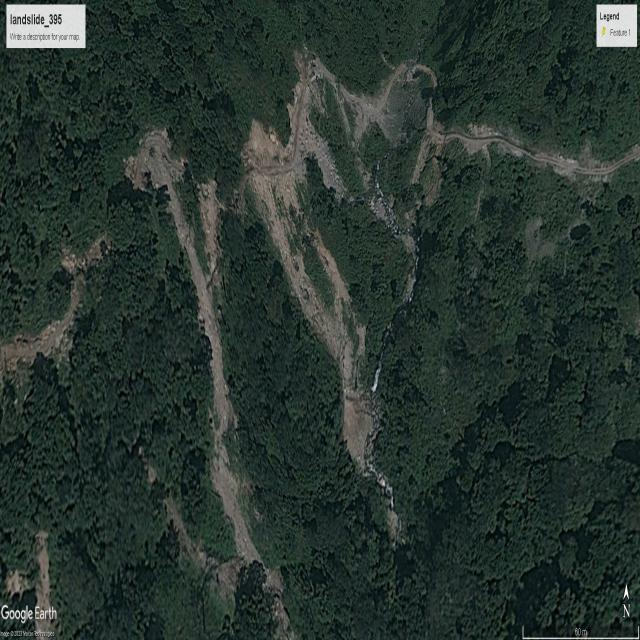Landslide: (159, 152, 243, 517), (260, 186, 366, 461), (306, 118, 348, 206)
